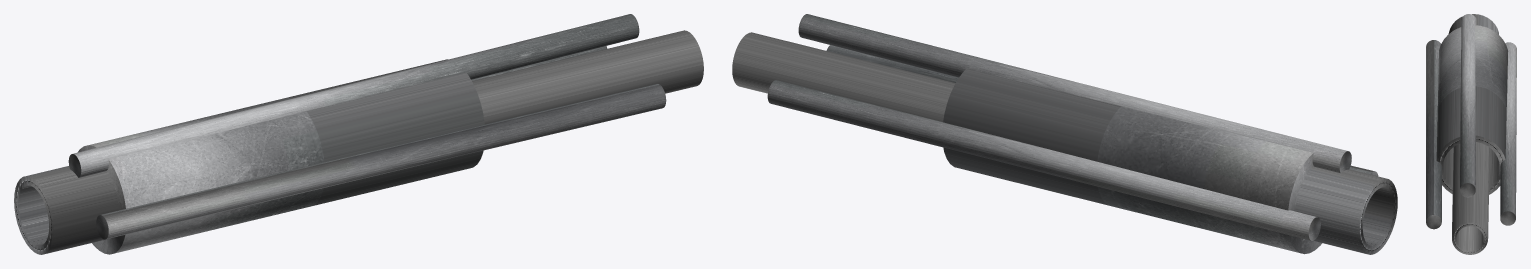
Rendered from pieza16.fbx.
3 renders of one model, left to right at view 1: azimuth 30°, elevation 25°; view 2: azimuth 150°, elevation 25°; view 3: azimuth 270°, elevation 25°, orthographic. The views are drawn at different scales.
Visible parts, largest first — view 1: Cylinder.060; view 2: Cylinder.060; view 3: Cylinder.060.
Part boxes in pixels (<box>): Cylinder.060: <box>14,14,703,254</box>; Cylinder.060: <box>732,14,1397,254</box>; Cylinder.060: <box>1426,14,1516,254</box>.
Size of the model in its own units: 503 by 80.79 by 95.93.
4 materials, 4 textured.
